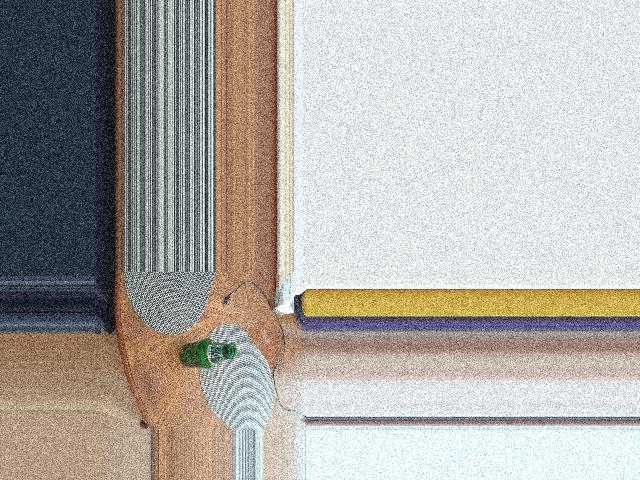beer: (180, 339, 237, 369)
